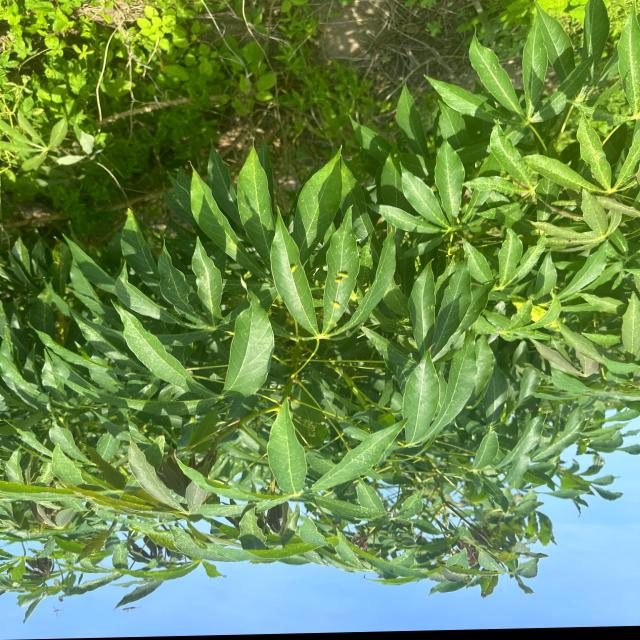Maleza: (54, 0, 372, 125), (0, 0, 147, 190)
Mosca: (325, 263, 355, 293), (283, 257, 302, 279), (329, 294, 342, 316)
